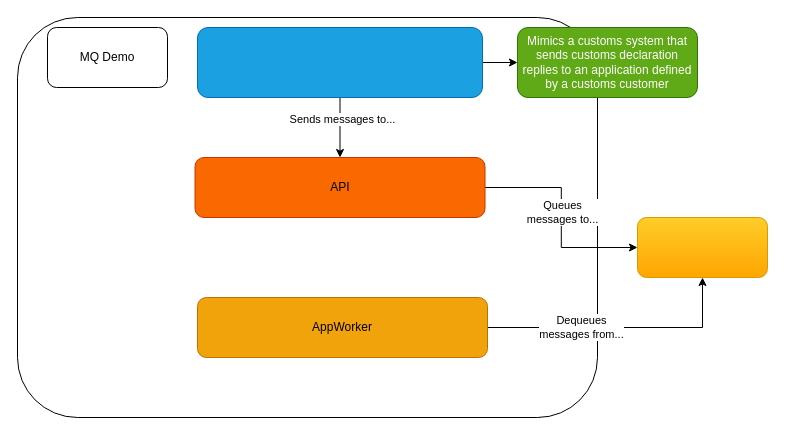
Image size: 785x435. Some labels were removed from this diagram. Each missing label, with the box of its shape:
"Mock" external "customs system": (196, 26, 482, 98)
RabbitMQ: (636, 216, 768, 278)
